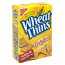grozi_104: (11, 2, 51, 63)
